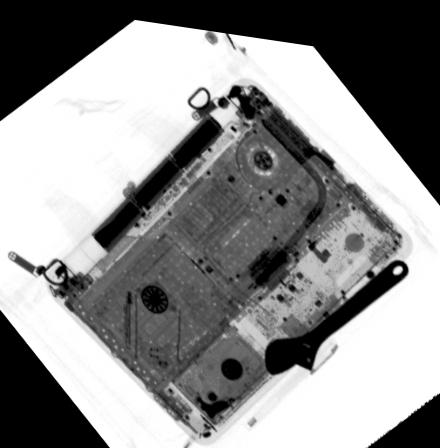Wrench: (263, 246, 410, 369)
